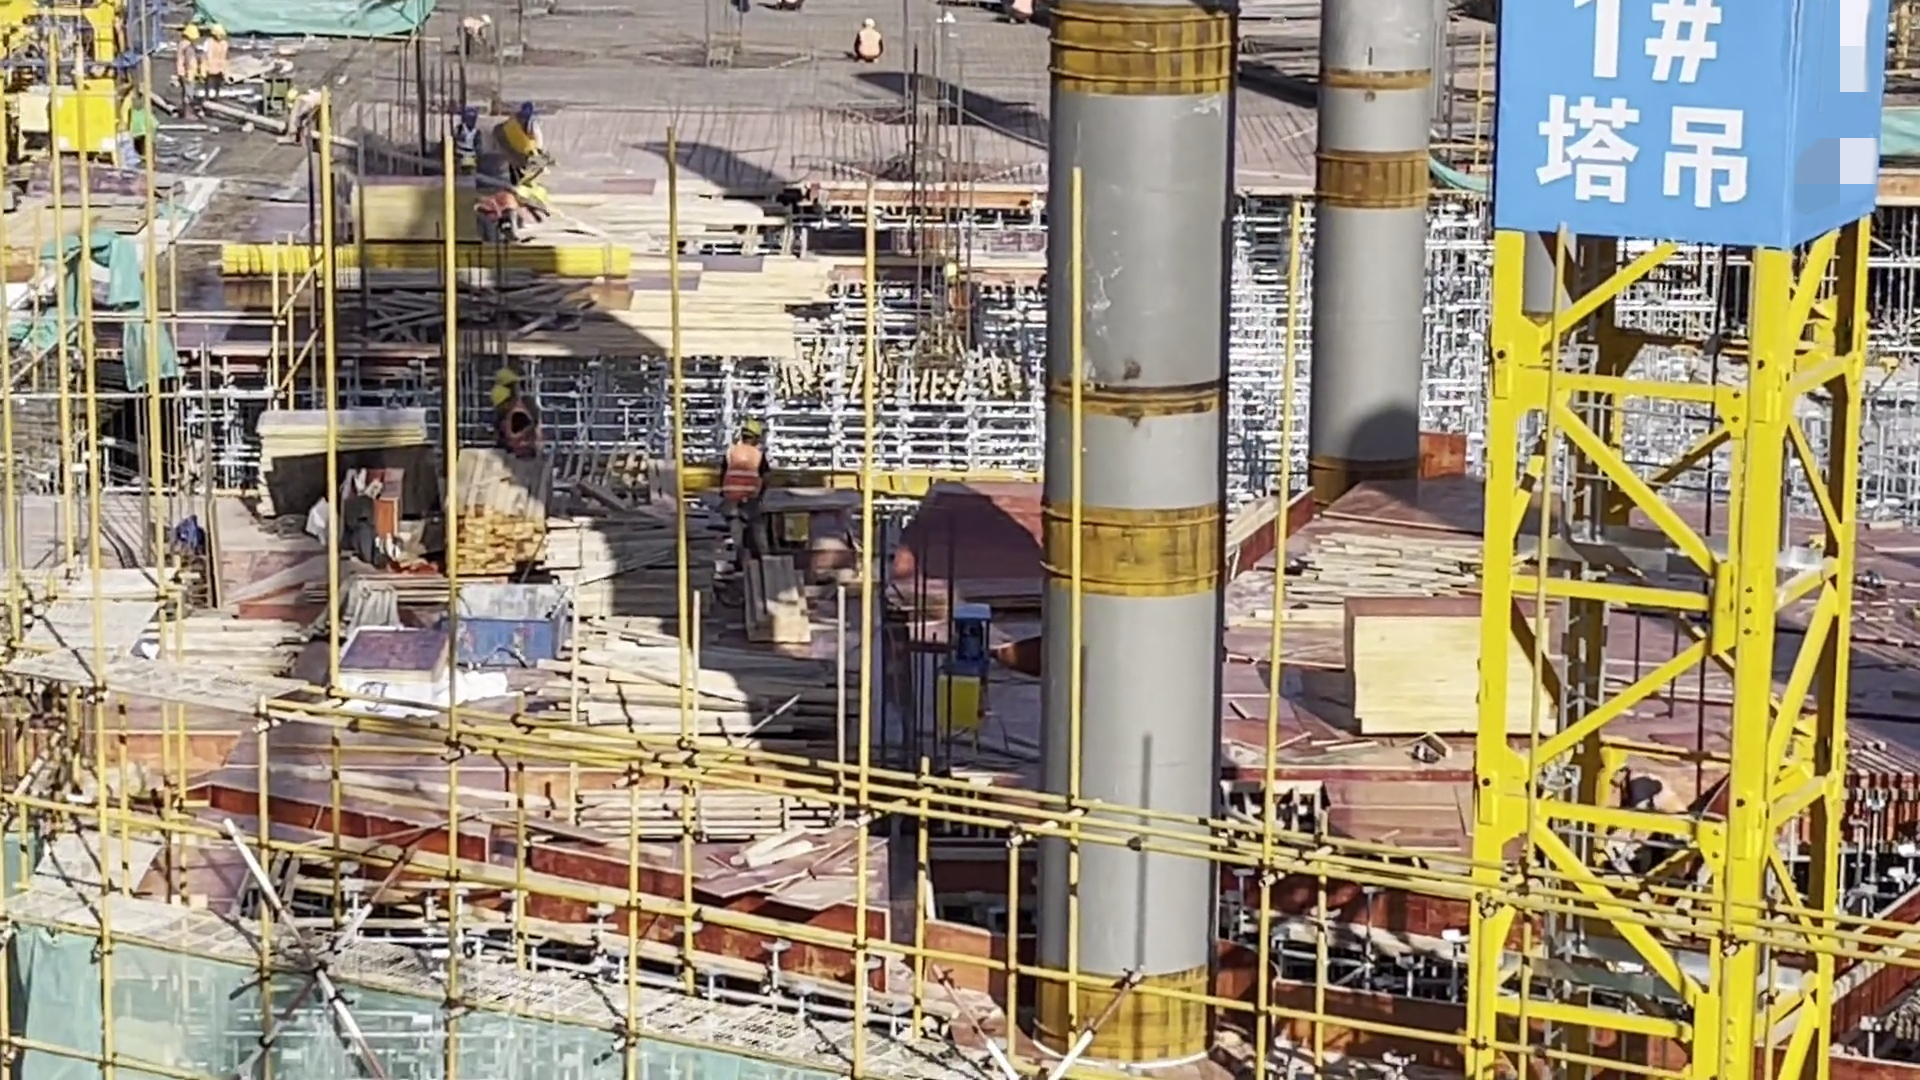board: (1344, 590, 1565, 752), (248, 404, 448, 512), (351, 180, 475, 245)
helmet: (737, 420, 766, 445), (487, 384, 512, 407), (492, 366, 516, 386), (181, 22, 201, 43), (208, 22, 227, 41), (462, 109, 478, 128)
hopper: (454, 585, 569, 670)
person: (718, 416, 768, 547), (491, 387, 544, 479), (176, 12, 206, 136), (472, 179, 530, 244), (205, 20, 241, 106), (850, 15, 890, 76), (451, 13, 500, 63), (448, 106, 477, 174)
slogan: (1505, 1, 1838, 244)
vest: (721, 440, 768, 510), (502, 407, 537, 456), (474, 189, 517, 223), (204, 38, 235, 80), (456, 125, 483, 165), (857, 31, 882, 61)
wood: (529, 609, 854, 739), (444, 441, 548, 591), (741, 555, 812, 642)
